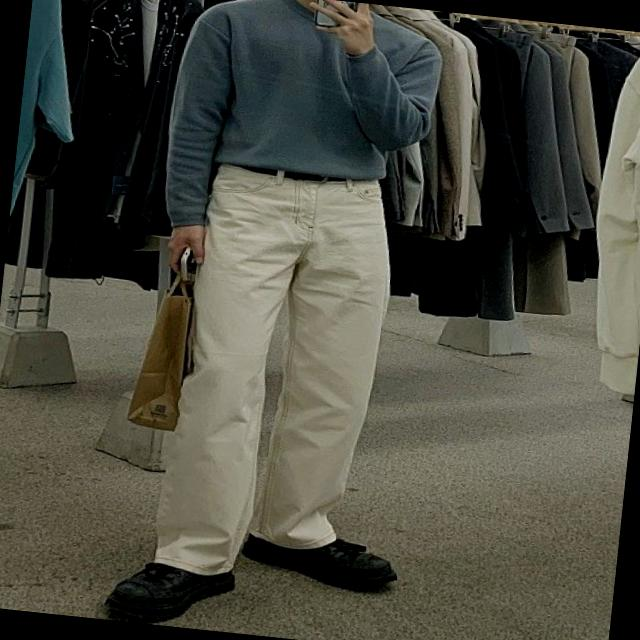cottonpants: (112, 157, 400, 606)
sweater: (160, 0, 442, 246)
